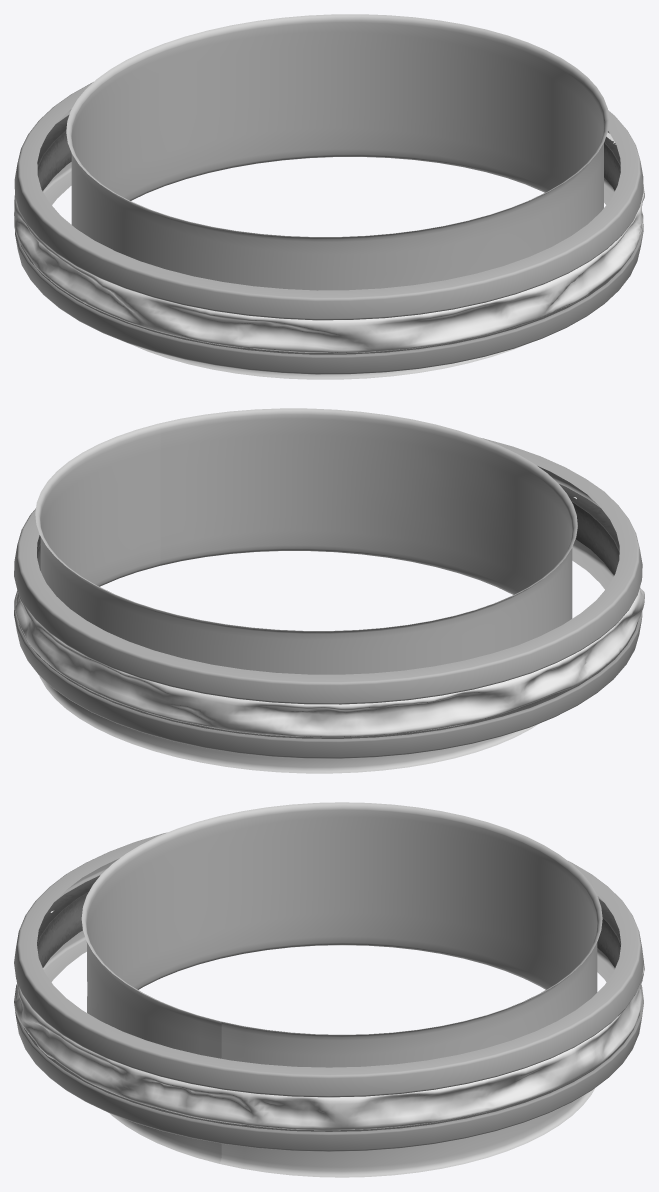
3 views of the same model, one above another, from view 1: azimuth 30°, elevation 25°; view 2: azimuth 150°, elevation 25°; view 3: azimuth 270°, elevation 25° (orthographic).
Visible parts, largest first — view 1: Engraving_Mesh, Silver_Metal, Custom_Metal; view 2: Engraving_Mesh, Silver_Metal, Custom_Metal; view 3: Engraving_Mesh, Silver_Metal, Custom_Metal.
Part boxes in pixels (x1=…): Engraving_Mesh: x1=66, y1=14, x2=609, y2=379; Silver_Metal: x1=14, y1=82, x2=643, y2=374; Custom_Metal: x1=14, y1=132, x2=644, y2=353; Engraving_Mesh: x1=35, y1=408, x2=577, y2=773; Silver_Metal: x1=14, y1=438, x2=642, y2=758; Custom_Metal: x1=15, y1=497, x2=644, y2=737; Engraving_Mesh: x1=81, y1=802, x2=602, y2=1177; Silver_Metal: x1=14, y1=832, x2=643, y2=1151; Custom_Metal: x1=14, y1=910, x2=644, y2=1130.
Size of the model in its own units: 2.62 by 0.6512 by 2.61.
Materials: 3 (1 with a texture image).
